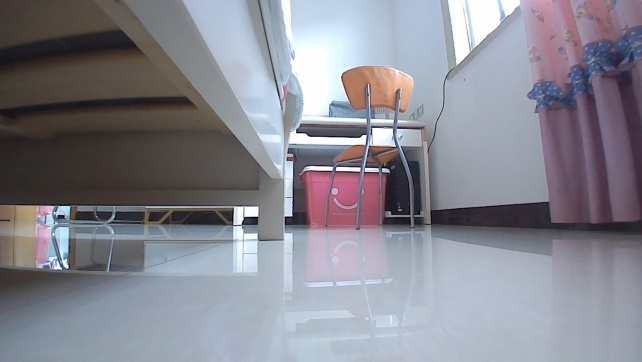bed1: (0, 0, 300, 243)
wire: (426, 65, 453, 152)
